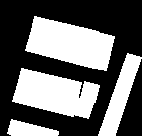parkingspot: (98, 53, 141, 136), (25, 33, 94, 67), (30, 16, 98, 50), (12, 84, 78, 116), (17, 68, 81, 100), (89, 32, 114, 70), (7, 119, 58, 136), (73, 97, 94, 118), (80, 81, 99, 102)
